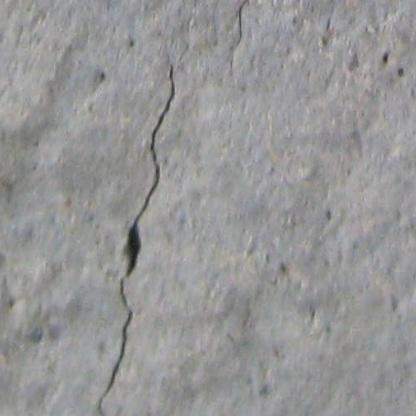Cracks: (96, 61, 179, 416), (227, 0, 261, 56)
